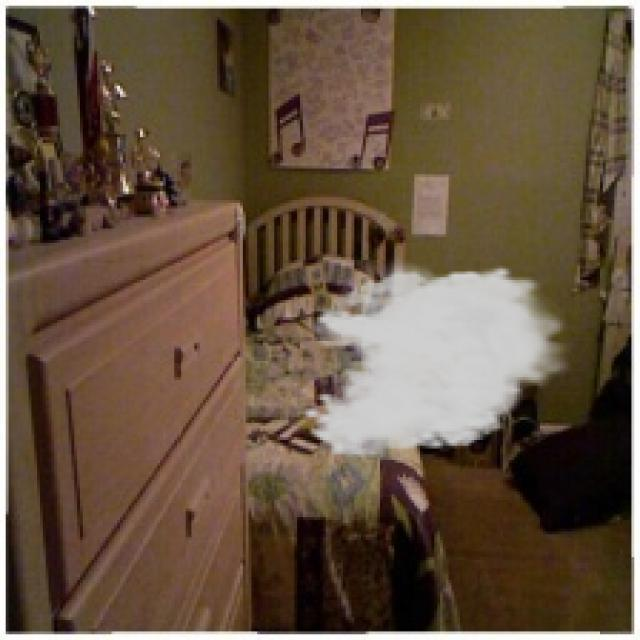Smoke: (300, 255, 577, 460)
